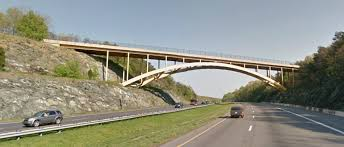bridge: (41, 33, 301, 96)
